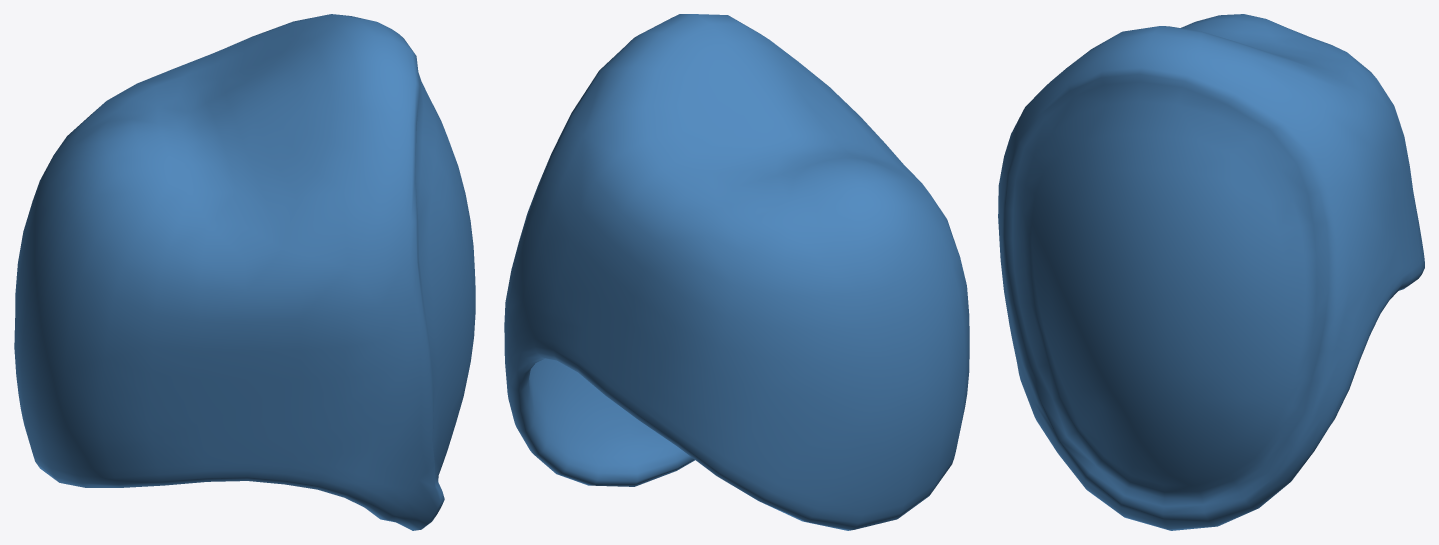
The model's file is BR5_Enamel_Prongs.001.glb.
3 renders of one model, left to right at view 1: azimuth 30°, elevation 25°; view 2: azimuth 150°, elevation 25°; view 3: azimuth 270°, elevation 25°, orthographic. The views are drawn at different scales.
Parts seen in each view (by area): view 1: BR5_Enamel_Prongs.001; view 2: BR5_Enamel_Prongs.001; view 3: BR5_Enamel_Prongs.001.
Part boxes in pixels (x1,y1,x2,y2): BR5_Enamel_Prongs.001: [14, 14, 475, 530]; BR5_Enamel_Prongs.001: [504, 14, 969, 530]; BR5_Enamel_Prongs.001: [998, 14, 1424, 530].
Bounding box in the file's own units: 0.7976 × 0.9146 × 0.7513.
